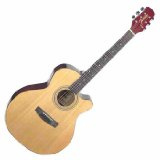guitar: (4, 6, 155, 156)
